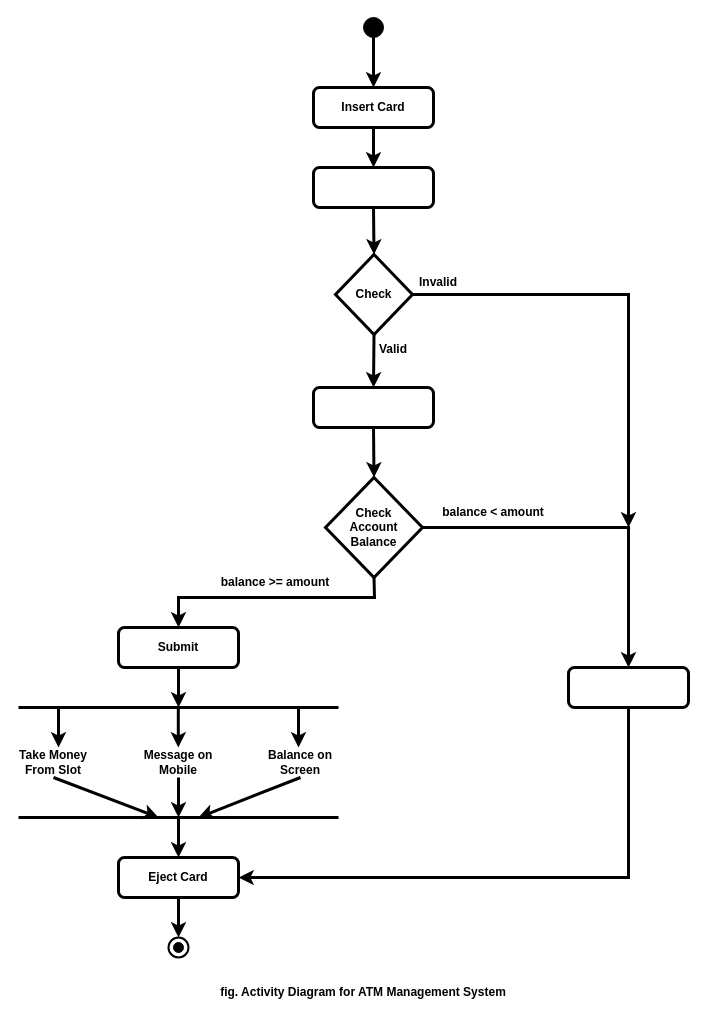
This 707x1025 diagram has some shape labels left out. The shapes that lost their labels are listed below. From the top down, each one's centre as x and y in pixels, then its label:
At point 373,187: "Enter Pin".
At point 373,407: "Enter Amount".
At point 628,687: "Transaction Failed".
